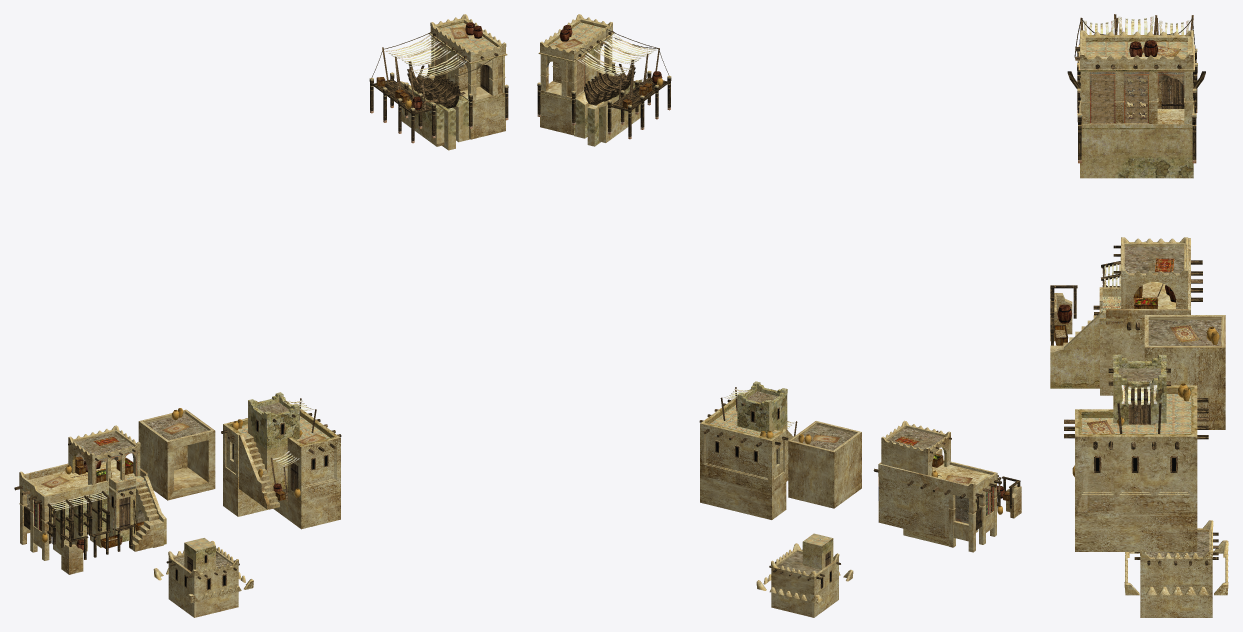
File: pers_dock.dae
3 views of the same model, side by side, from view 1: azimuth 30°, elevation 25°; view 2: azimuth 150°, elevation 25°; view 3: azimuth 270°, elevation 25° (orthographic). The views are drawn at different scales.
Visible parts, largest first — view 1: Dock; view 2: Dock; view 3: Dock.
Boxes of the visible parts, left/top/right/bottom form: Dock: left=14, top=14, right=508, bottom=617; Dock: left=537, top=14, right=1021, bottom=617; Dock: left=1050, top=14, right=1228, bottom=617.
Size of the model in its own units: 81.8 by 19.61 by 89.56.
